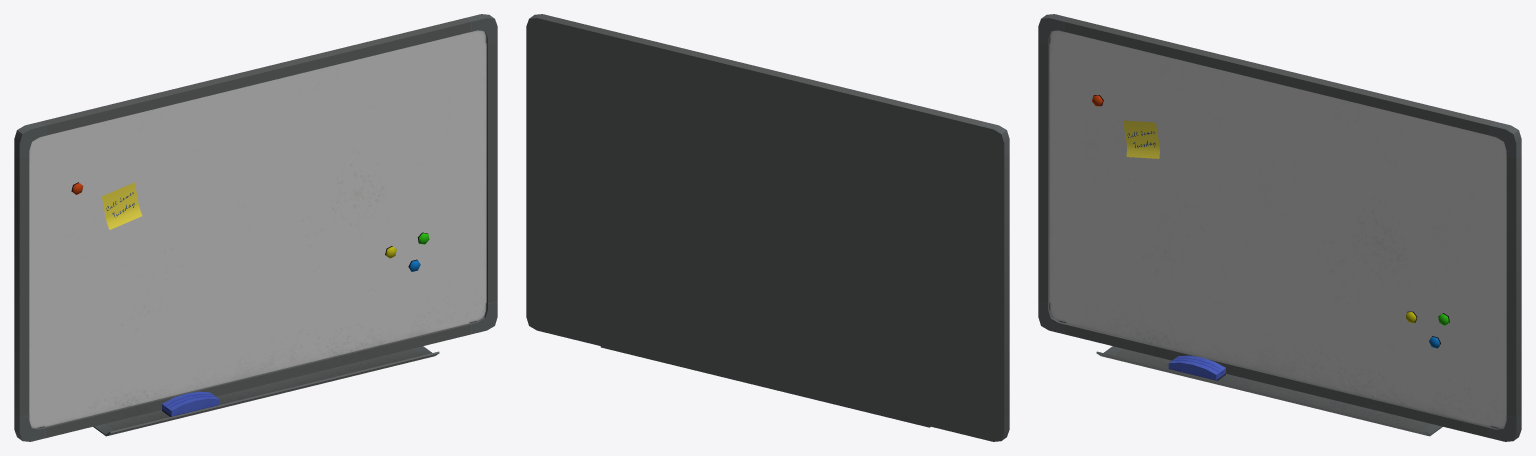
The model's file is WhiteboardStuffed.FBX.
3 views of the same model, side by side, from view 1: azimuth 30°, elevation 25°; view 2: azimuth 150°, elevation 25°; view 3: azimuth 330°, elevation 25° (orthographic).
Visible parts, largest first — view 1: WhiteboardStuffed; view 2: WhiteboardStuffed; view 3: WhiteboardStuffed.
Part boxes in pixels (left/top/right/bottom): WhiteboardStuffed: left=14, top=14, right=497, bottom=441; WhiteboardStuffed: left=526, top=14, right=1009, bottom=441; WhiteboardStuffed: left=1038, top=14, right=1521, bottom=441.
Bounding box in the file's own units: 39.37 × 24.71 × 3.13.
